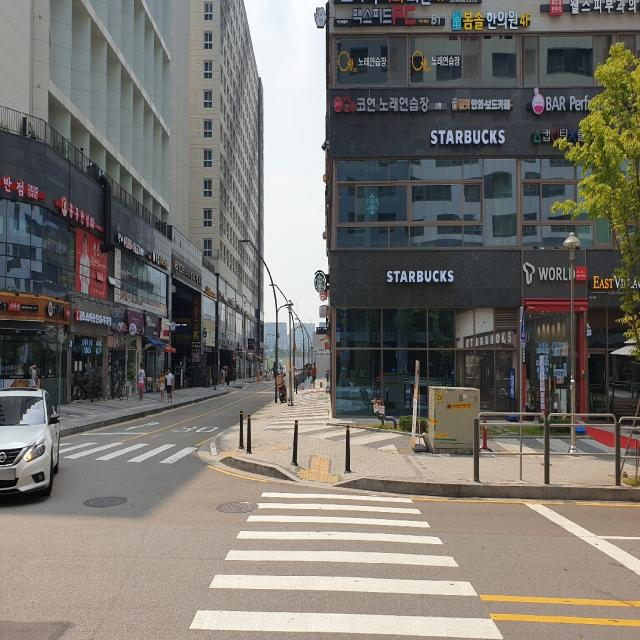횡단보도: (187, 490, 507, 640), (34, 438, 198, 474)
